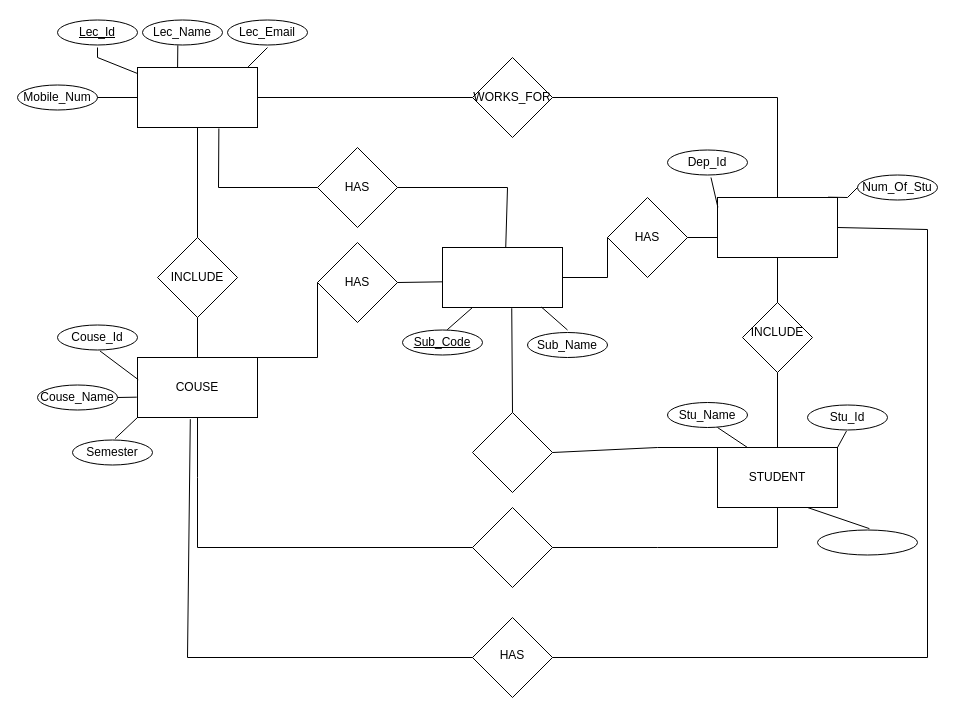
The diagram is 955 pixels wide and 715 high, and some of its shapes have lost their labels. The shapes that lost their labels are listed below. From the top down, each one's centre as x and y in pixels, then its label:
At point (197, 97): "LECTURER".
At point (777, 227): "DEPARTMENT".
At point (502, 277): "SUBJECT".
At point (512, 452): "ENROLL".
At point (512, 547): "REGISTER".
At point (867, 542): "Registerd_Year".
